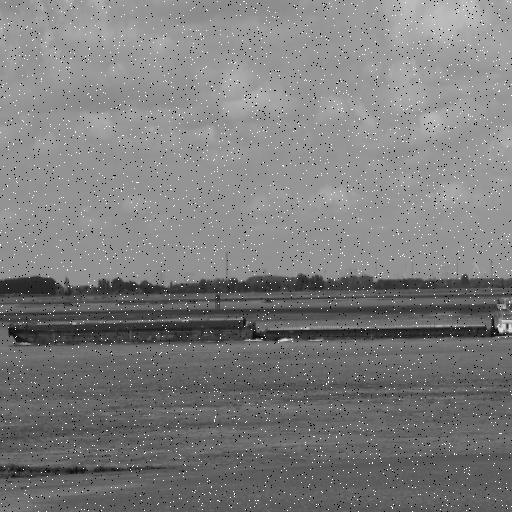tugboat: (477, 292, 512, 344)
